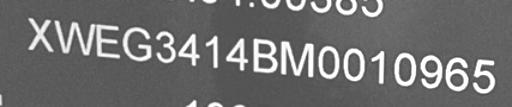letter: (52, 17, 96, 56), (278, 36, 316, 79), (121, 22, 153, 63), (248, 31, 278, 74), (94, 20, 122, 59), (26, 15, 54, 52), (340, 45, 368, 82), (470, 56, 496, 94), (222, 34, 248, 71), (314, 42, 340, 79), (390, 50, 416, 87), (418, 52, 444, 89), (199, 31, 221, 72), (446, 54, 470, 91), (154, 27, 176, 64), (176, 30, 198, 67), (368, 48, 388, 85)
